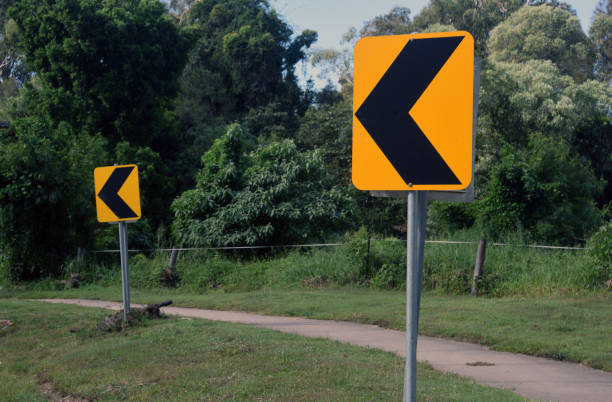left turn: (356, 35, 470, 192), (93, 166, 141, 220)
